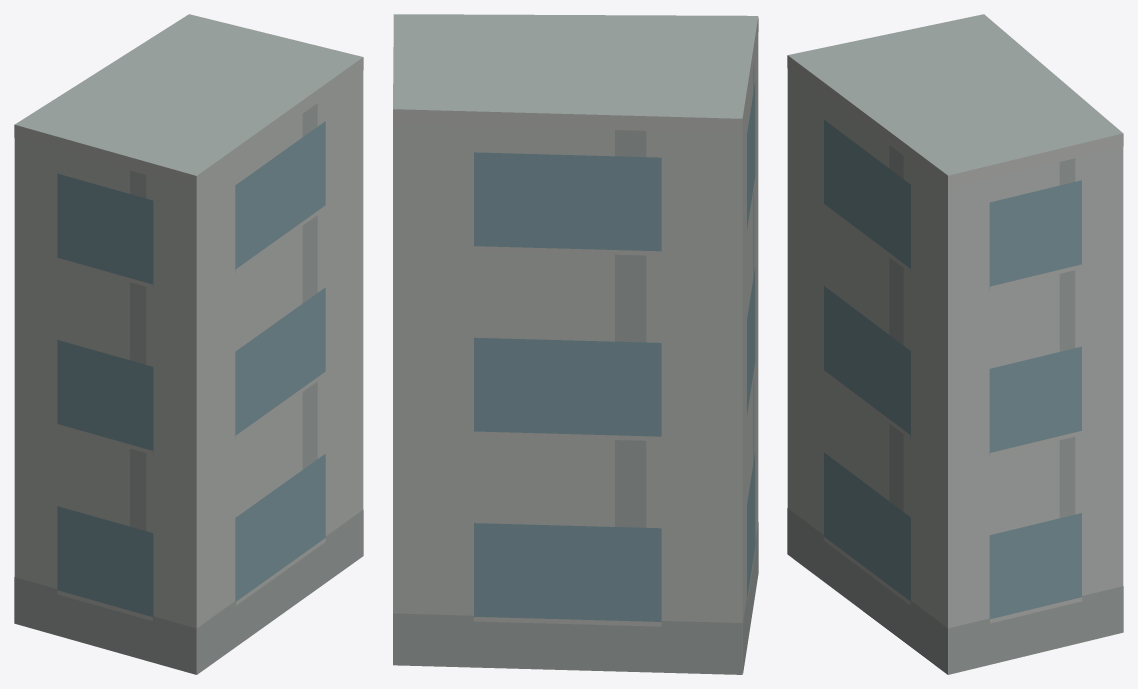
File: survey-upis-32528237.glb
The picture shows the model from 3 angles, left to right: view 1: azimuth 30°, elevation 25°; view 2: azimuth 150°, elevation 25°; view 3: azimuth 270°, elevation 25°; orthographic projection. The views are drawn at different scales.
Parts seen in each view (by area): view 1: survey-upis-32528237.tmp; view 2: survey-upis-32528237.tmp; view 3: survey-upis-32528237.tmp.
Part boxes in pixels (x1,y1,x2,y2): survey-upis-32528237.tmp: [14, 14, 363, 674]; survey-upis-32528237.tmp: [393, 14, 758, 674]; survey-upis-32528237.tmp: [787, 14, 1123, 674].
Size of the model in its own units: 6.36 by 9.15 by 5.59.
